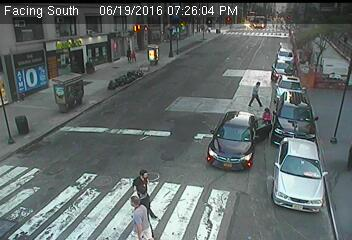neg: (256, 105, 276, 132), (314, 44, 326, 60)
pos: (125, 166, 162, 215), (120, 193, 154, 238), (248, 79, 268, 106), (122, 45, 134, 61), (127, 47, 139, 62)
